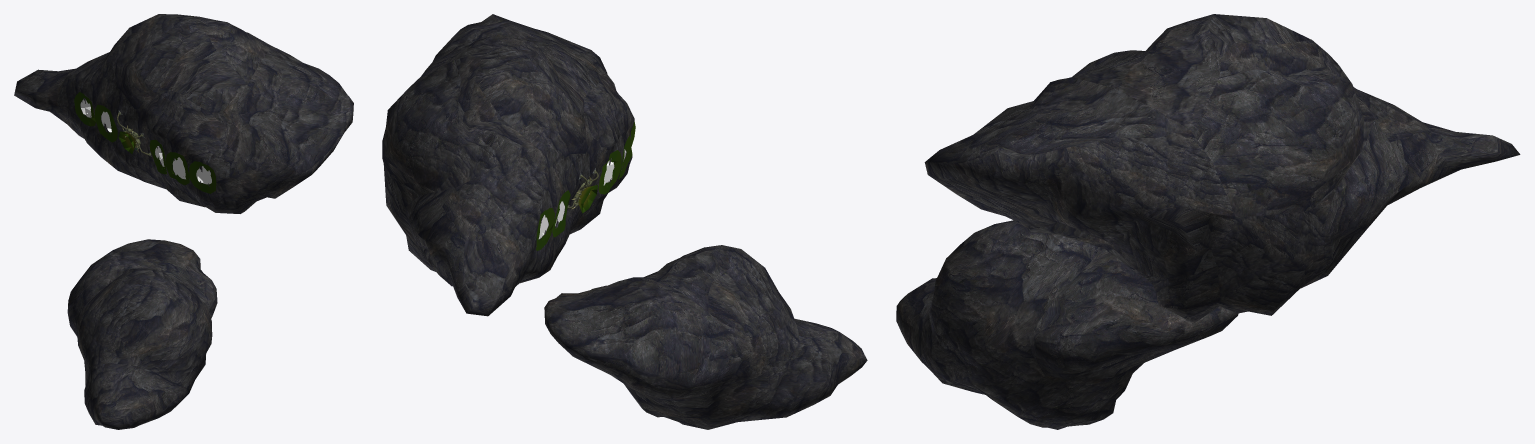
The model's file is stg610_01.obj.
3 renders of one model, left to right at view 1: azimuth 30°, elevation 25°; view 2: azimuth 150°, elevation 25°; view 3: azimuth 270°, elevation 25°, orthographic. The views are drawn at different scales.
Visible parts, largest first — view 1: polygon0, polygon69, polygon11, polygon6, polygon2, polygon5, polygon1; view 2: polygon0, polygon69, polygon4; view 3: polygon0, polygon69.
Part boxes in pixels (x1,y1,x2,y2): polygon0: (14,14,353,213); polygon69: (67,239,217,429); polygon11: (155,146,211,184); polygon6: (189,161,216,193); polygon2: (94,104,117,142); polygon5: (165,152,189,185); polygon1: (74,92,95,126); polygon0: (382,14,634,316); polygon69: (544,245,867,429); polygon4: (598,150,621,194); polygon0: (924,14,1520,322); polygon69: (896,220,1238,429).
Bounding box in the file's own units: 4104 × 4335 × 5173.
19 materials, 19 textured.
